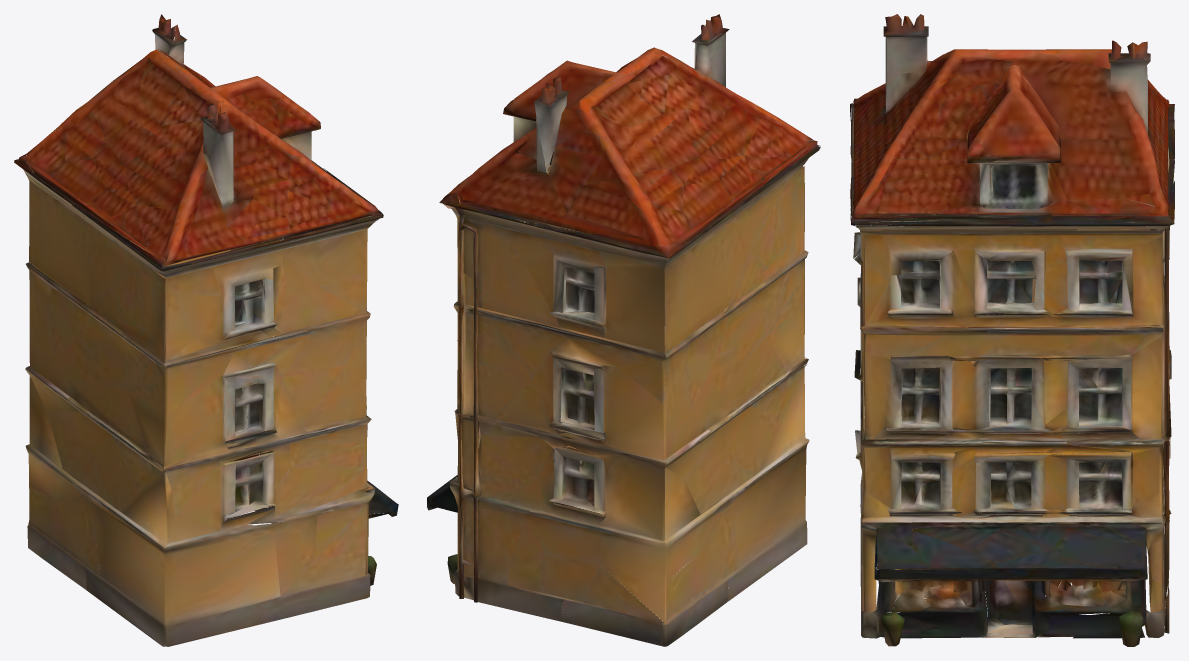
File: house_old.glb
3 views of the same model, side by side, from view 1: azimuth 30°, elevation 25°; view 2: azimuth 150°, elevation 25°; view 3: azimuth 270°, elevation 25° (orthographic). The views are drawn at different scales.
Parts seen in each view (by area): view 1: tripo_node_4ec5819d-6df2-4e98-8a26-503a8ae8c0c7; view 2: tripo_node_4ec5819d-6df2-4e98-8a26-503a8ae8c0c7; view 3: tripo_node_4ec5819d-6df2-4e98-8a26-503a8ae8c0c7.
Part boxes in pixels (<box>): tripo_node_4ec5819d-6df2-4e98-8a26-503a8ae8c0c7: <box>14,14,398,646</box>; tripo_node_4ec5819d-6df2-4e98-8a26-503a8ae8c0c7: <box>427,14,820,646</box>; tripo_node_4ec5819d-6df2-4e98-8a26-503a8ae8c0c7: <box>850,14,1174,646</box>.
Bounding box in the file's own units: 0.5136 × 1 × 0.5296.
Materials: 1 (1 with a texture image).
